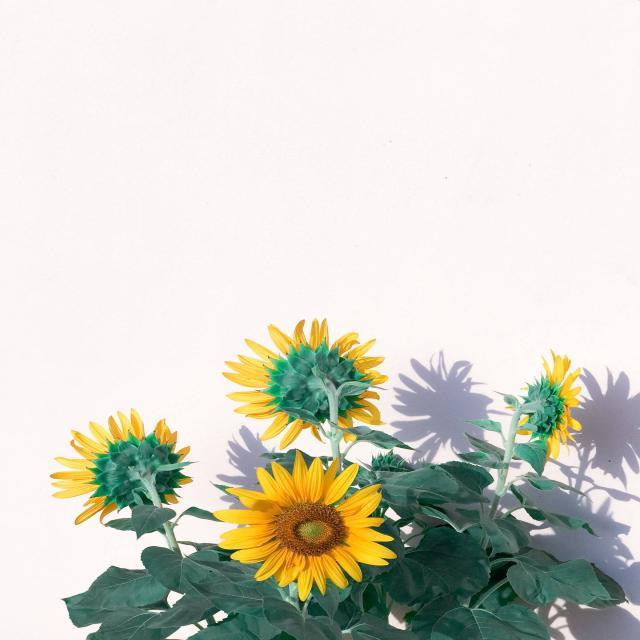sunflower: (212, 449, 397, 601), (221, 316, 388, 449), (49, 408, 195, 526), (510, 348, 584, 460)
